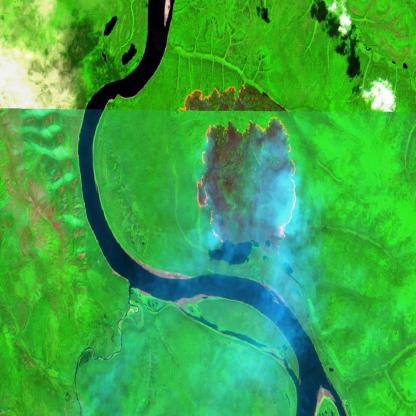fire: (180, 88, 299, 250)
